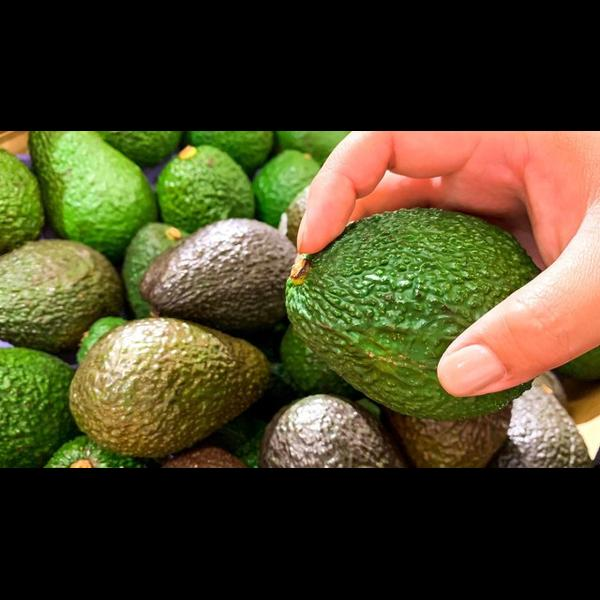almost: (68, 318, 271, 458), (1, 239, 125, 355)
ripe: (140, 218, 296, 331)
unripe: (284, 207, 545, 420), (28, 130, 158, 259), (158, 145, 255, 234), (123, 222, 188, 317), (253, 149, 322, 229)
